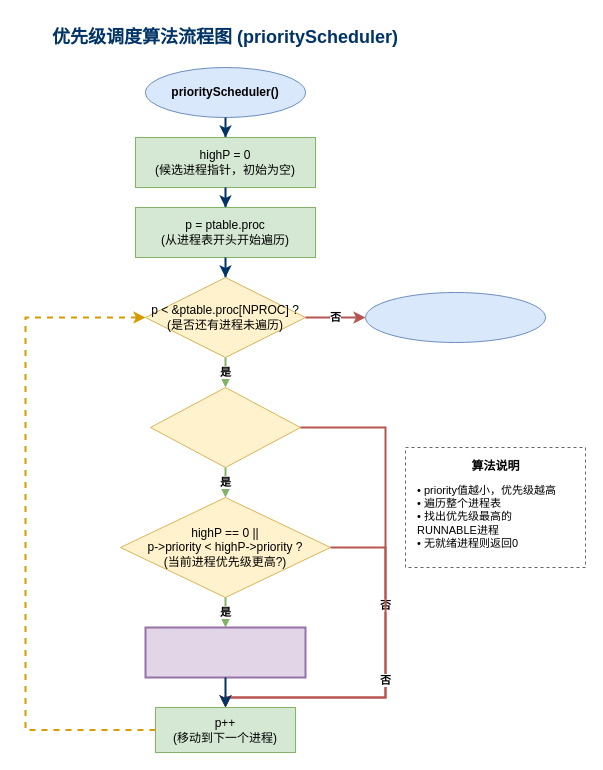
This 603x770 diagram has some shape labels left out. The shapes that lost their labels are listed below. From the top down, each one's box as (x1, y1, x2, y2) in pixels, then its label:
(364, 292, 546, 342): return highP (返回优先级最高的进程)
(150, 386, 300, 468): p->state == RUNNABLE ? (进程是否就绪)
(144, 626, 306, 678): highP = p (更新候选为当前进程)
